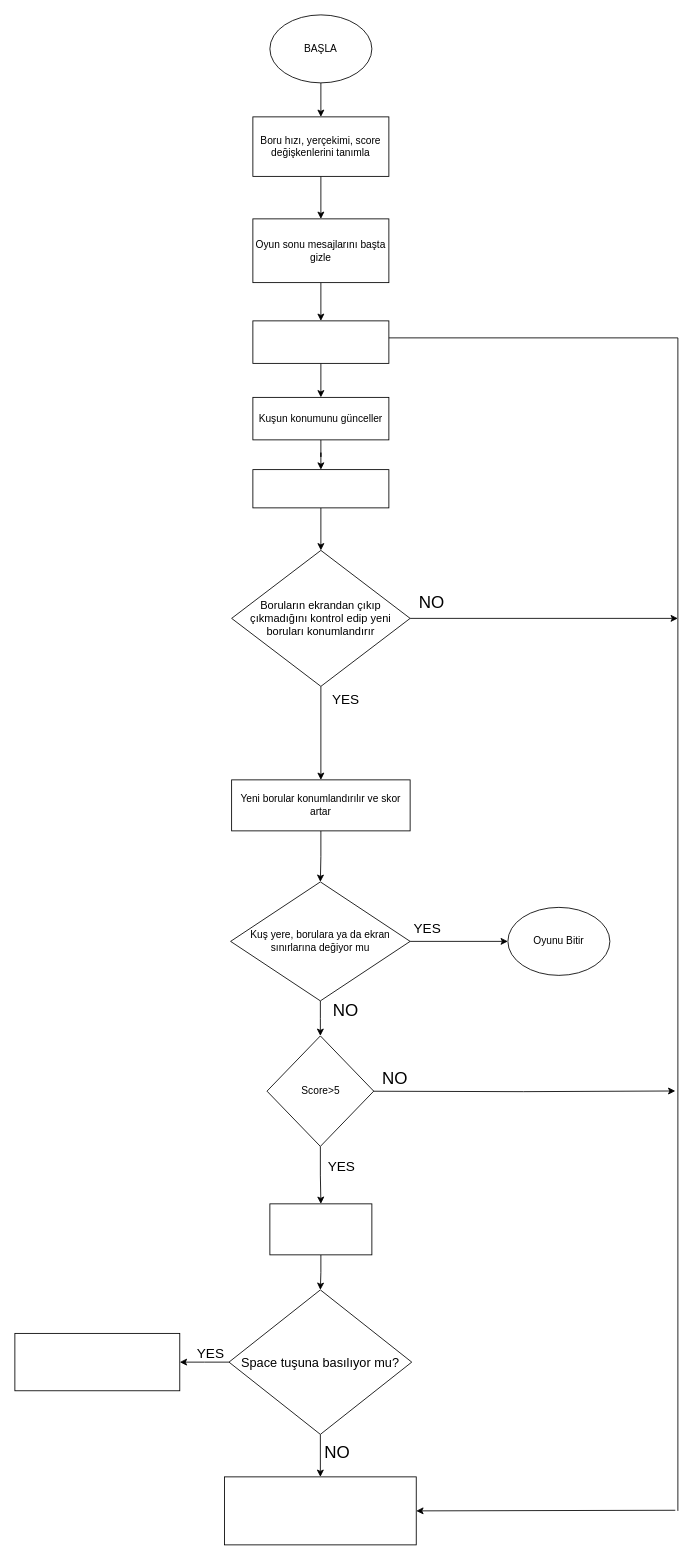
Some shapes in this 700 by 1560 pixel diagram are drawn without their labels. Each missing label, with the centre of its shape:
"Boruları sola hareket ettir" goes at (x=320, y=488).
"Boruların hızının artır" goes at (x=320, y=1229).
"Game Timer Event" goes at (x=320, y=341).
"Yerçekimini artırarak kuşu aşağı indir" goes at (x=320, y=1510).
"Yerçekimini azaltarak kuşu yukarı çıkar" goes at (x=97, y=1362).
